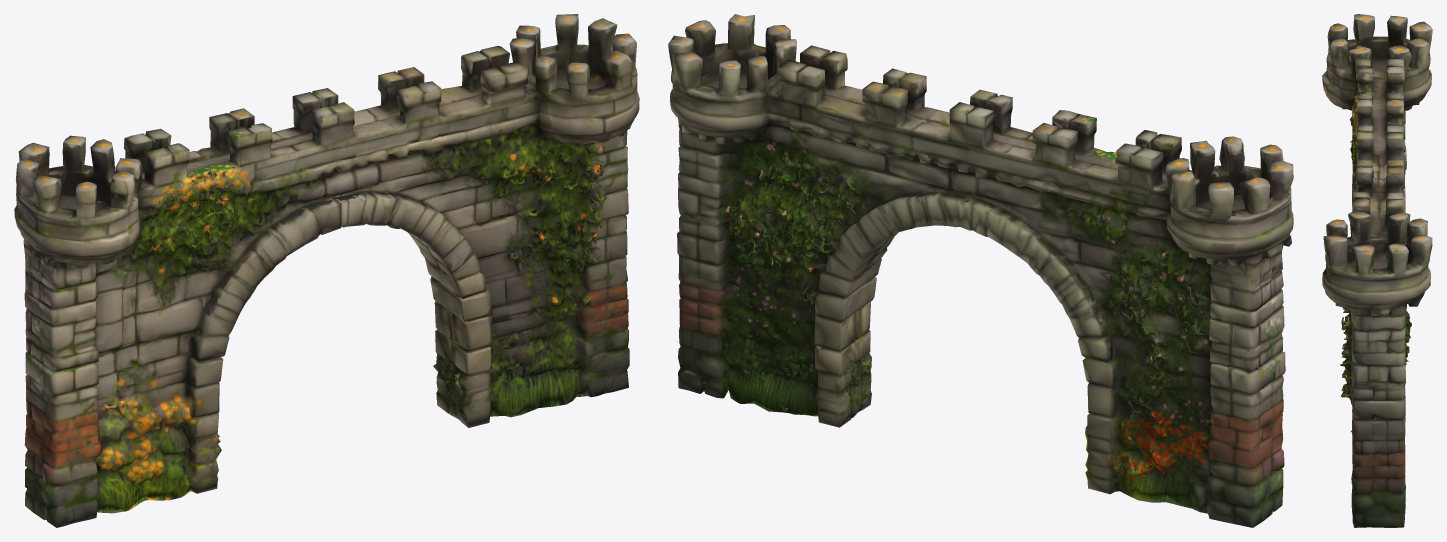
Rendered from Castle_gate.glb.
The picture shows the model from 3 angles, left to right: view 1: azimuth 30°, elevation 25°; view 2: azimuth 150°, elevation 25°; view 3: azimuth 270°, elevation 25°; orthographic projection. The views are drawn at different scales.
Size of the model in its own units: 2 by 1.11 by 0.3909.
1 material, 1 textured.
